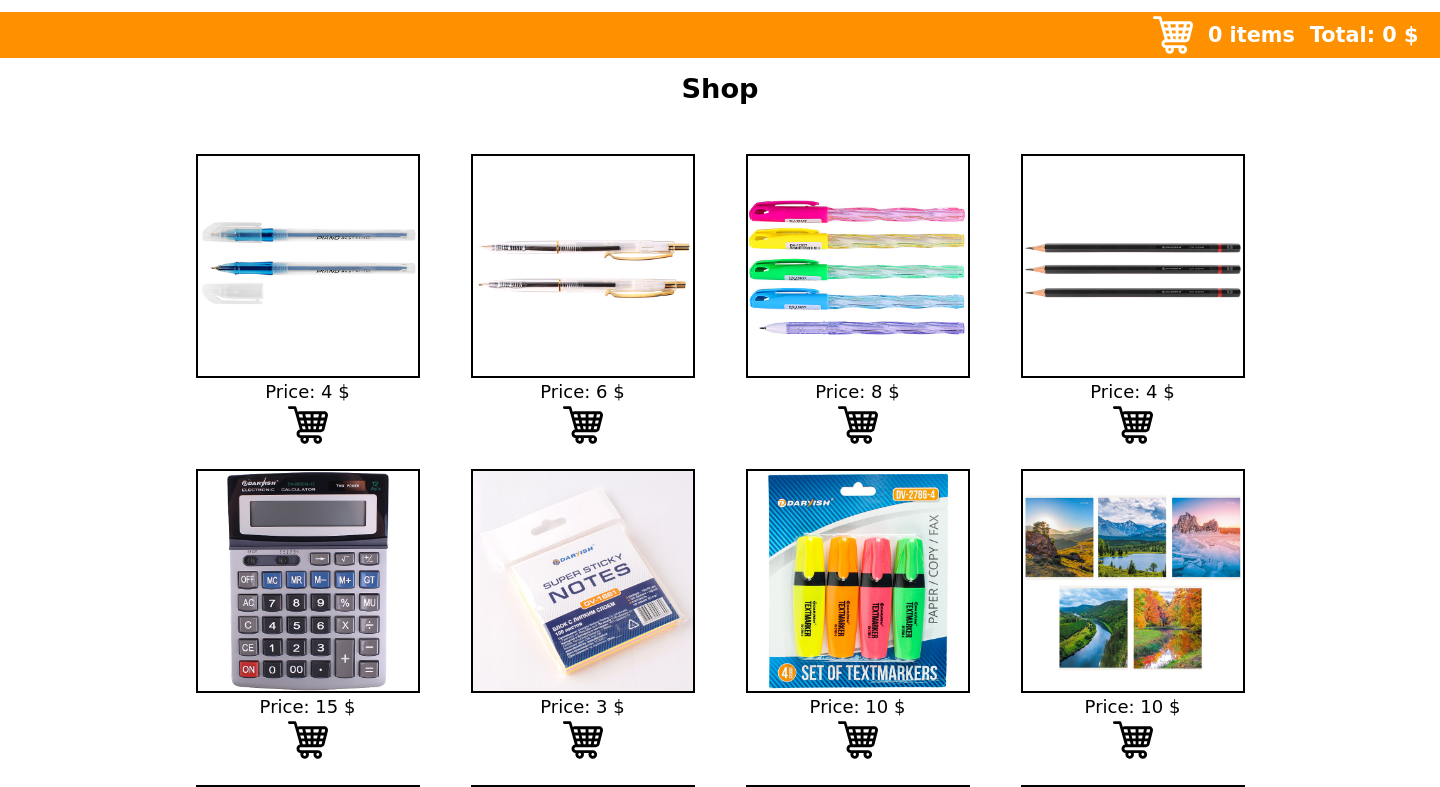
Scenario: Shop component › minus button works (and input changes to cart if quantity is less than 1)
The width and height of the screenshot is (1440, 787).
Click the picture with test id "cart-0": (308, 425) [288, 405, 328, 445]
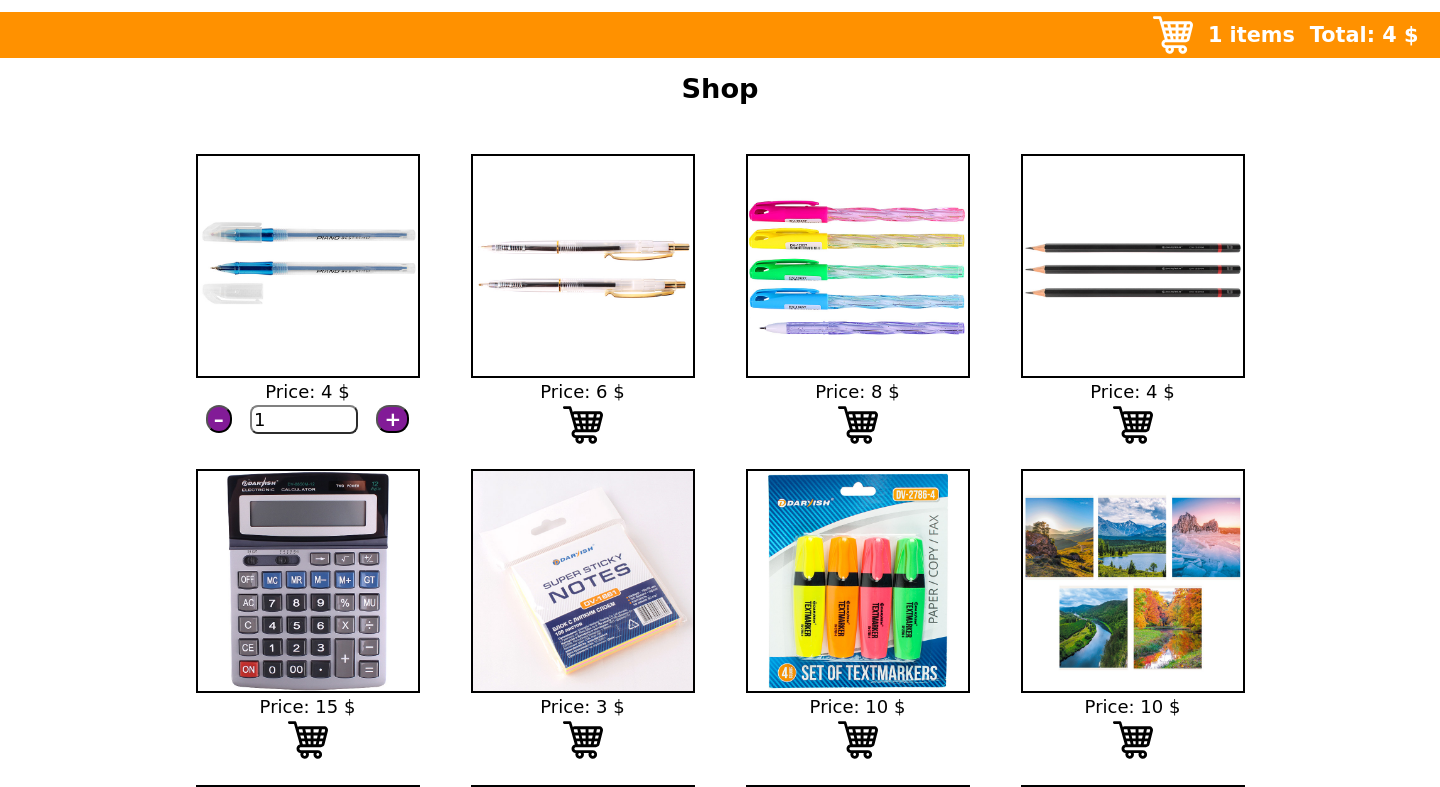
Click the button "–": (219, 419) [206, 405, 232, 433]
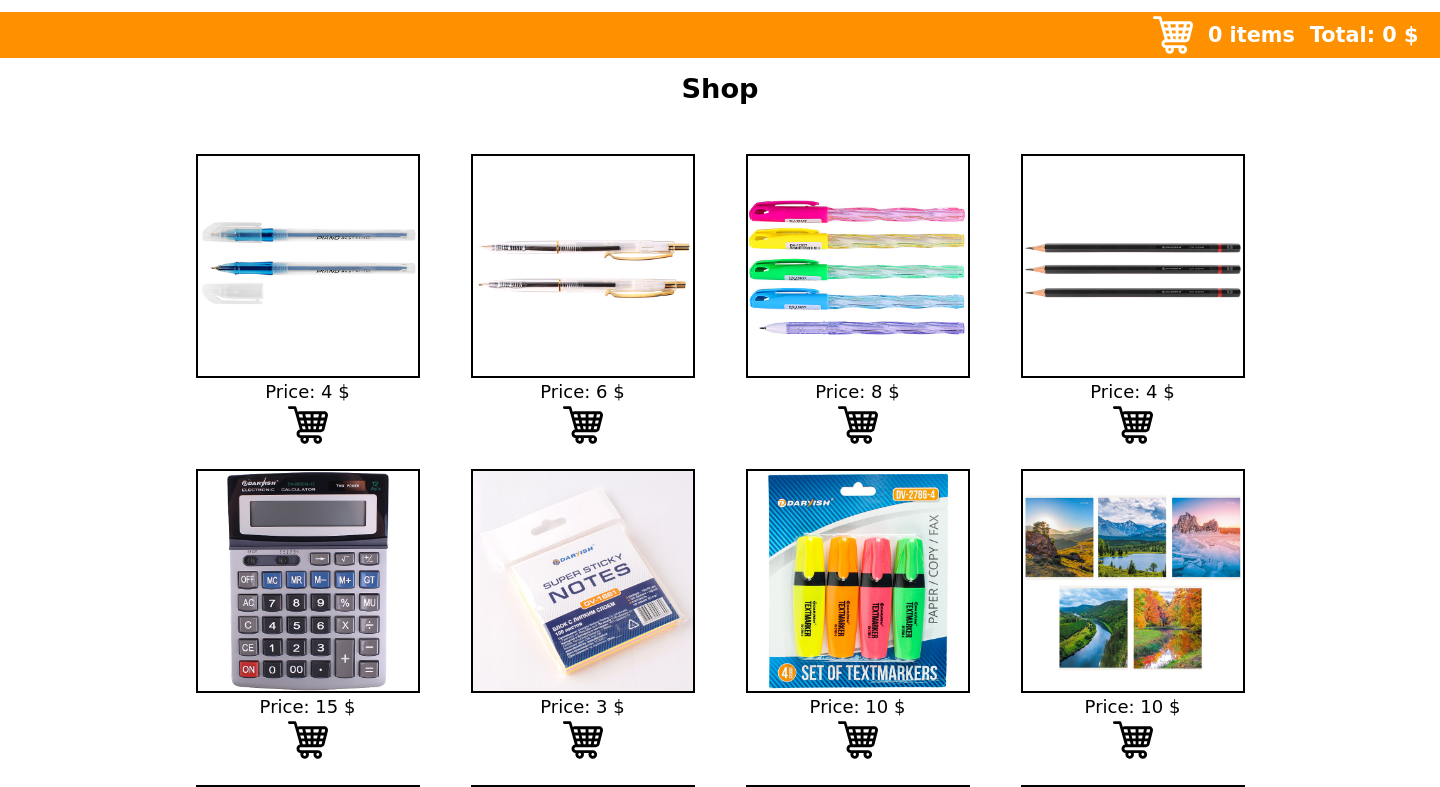
Now the picture with test id "cart-0" is shown, box [288, 405, 328, 445]
Now the field with test id "input-0" is gone
